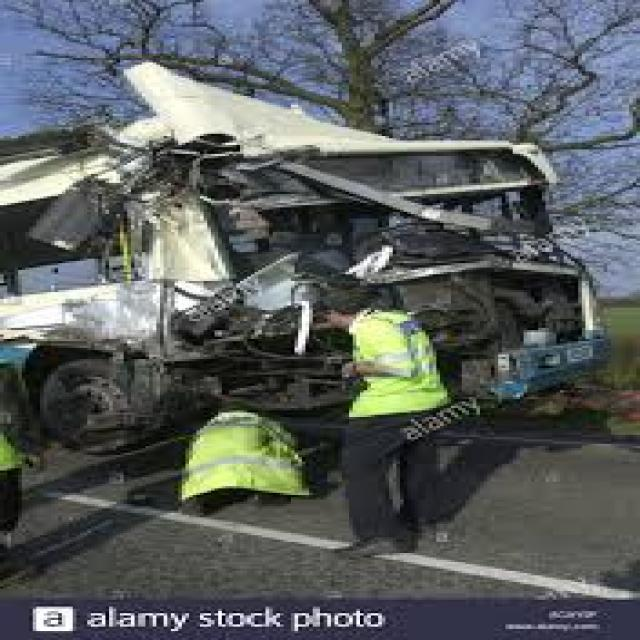accident: (14, 56, 606, 492)
